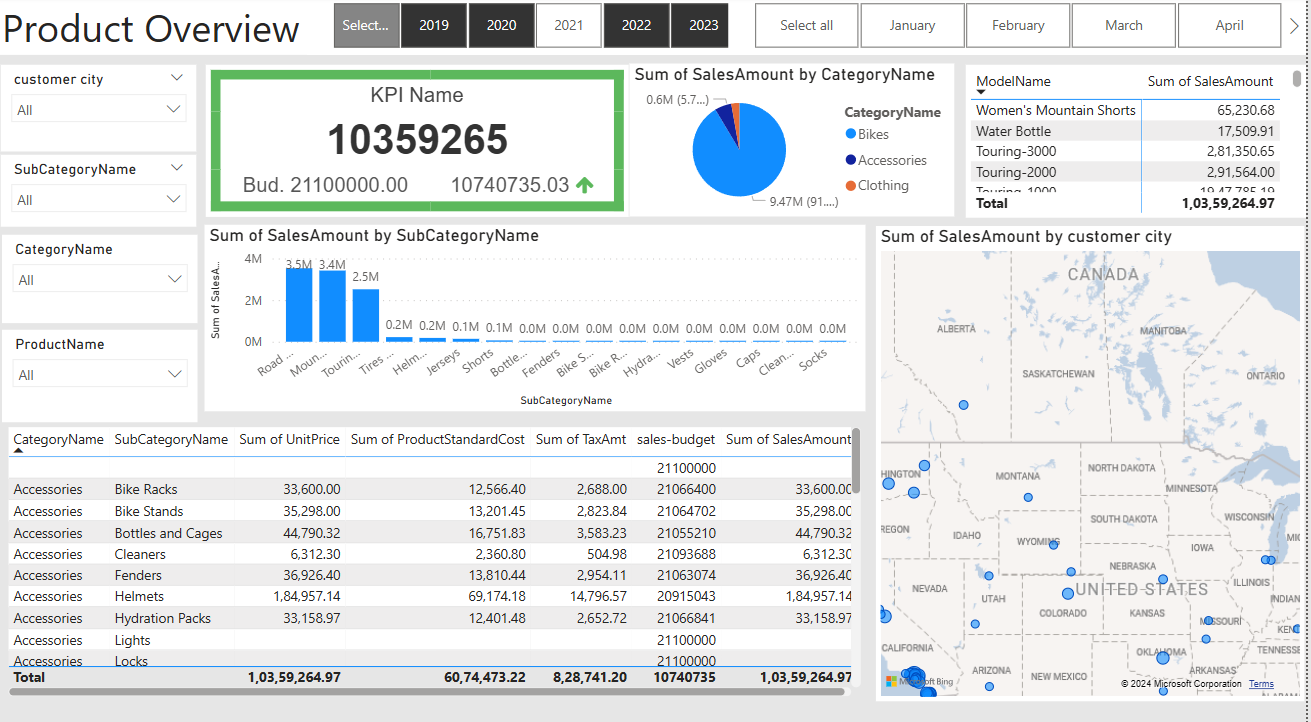

Layout of this report page (visuals, bound fields, positions):
{"tool":"powerbi","page":{"name":"product","canvas":[1280,720],"ordinal":1},"visuals":[{"type":"textbox","box":[0,0,1280.6,57.6],"z":0},{"type":"slicer","fields":{"Values":["customer.City"]},"box":[3.8,67.5,191.2,85],"z":1000},{"type":"slicer","fields":{"Values":["product.SubCategoryName"]},"box":[3.8,155,191.2,70],"z":2000},{"type":"slicer","fields":{"Values":["product.ProductName"]},"box":[5,326.2,191.2,91.2],"z":3000},{"type":"slicer","fields":{"Values":["product.CategoryName"]},"box":[5,233.8,191.2,86.2],"z":4000},{"type":"slicer","fields":{"Values":["customer.DateFirstPurchase.Variation.Date Hierarchy.Year"]},"box":[303,0,444.2,57.6],"z":5000},{"type":"slicer","fields":{"Values":["date.Date.Variation.Date Hierarchy.Month"]},"box":[715,0,565,57.5],"z":6000},{"type":"BBED0A4D4D8D44CE93CF2DAFADEE466C","fields":{"actual":["key measurement.sales"],"target1":["key measurement.total budget"],"target2":["key measurement.sales-budget"]},"box":[203.8,67.5,413.8,148.8],"z":7000},{"type":"pieChart","fields":{"Category":["product.CategoryName"],"Y":["Sum(sales.SalesAmount)"]},"box":[618.2,66.2,317.2,149.9],"z":8000},{"type":"columnChart","fields":{"Category":["product.SubCategoryName"],"Y":["Sum(sales.SalesAmount)"]},"box":[203.3,224.3,646,182.4],"z":9000},{"type":"map","fields":{"Category":["customer.customer city"],"Size":["Sum(sales.SalesAmount)"]},"box":[859.6,224.9,419.5,464.8],"z":10000},{"type":"pivotTable","fields":{"Rows":["product.ModelName"],"Values":["Sum(sales.SalesAmount)"]},"box":[947,67.4,333.5,149.9],"z":11000},{"type":"tableEx","fields":{"Values":["product.CategoryName","product.SubCategoryName","Sum(sales.UnitPrice)","Sum(sales.ProductStandardCost)","Sum(sales.TaxAmt)","key measurement.sales-budget","Sum(sales.SalesAmount)"]},"box":[4.6,417.1,844.7,273.1],"z":12000}]}

Visuals, with their boxes in screenshot pixels (x1, y1, x2, y2), scaled from the page's 1280x720 canvas onto the 1311x722 screenshot:
textbox: 0:0:1310:58
slicer - customer.City: 4:68:200:153
slicer - product.SubCategoryName: 4:155:200:226
slicer - product.ProductName: 5:327:201:419
slicer - product.CategoryName: 5:234:201:321
slicer - customer.DateFirstPurchase.Variation.Date Hierarchy.Year: 310:0:765:58
slicer - date.Date.Variation.Date Hierarchy.Month: 732:0:1310:58
BBED0A4D4D8D44CE93CF2DAFADEE466C - key measurement.sales x key measurement.total budget: 209:68:633:217
pieChart - product.CategoryName x Sum(sales.SalesAmount): 633:66:958:217
columnChart - product.SubCategoryName x Sum(sales.SalesAmount): 208:225:870:408
map - customer.customer city x Sum(sales.SalesAmount): 880:226:1310:692
pivotTable - product.ModelName x Sum(sales.SalesAmount): 970:68:1310:218
tableEx - product.CategoryName x product.SubCategoryName: 5:418:870:692
